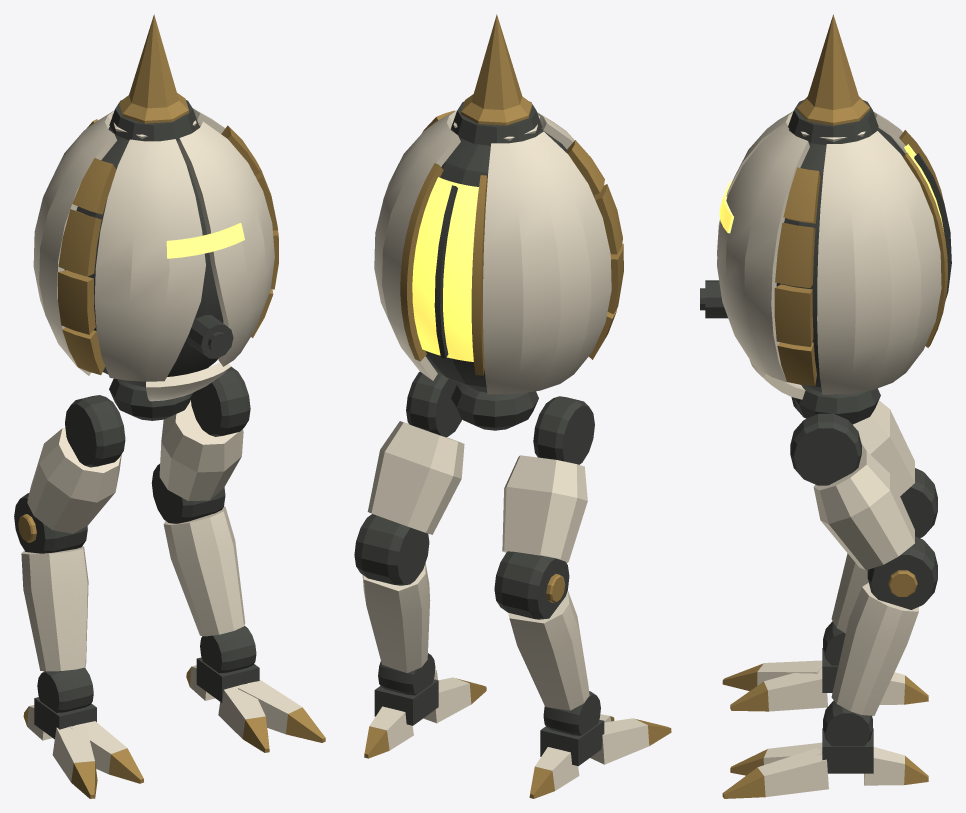
File: banki_sentry.glb
3 views of the same model, side by side, from view 1: azimuth 30°, elevation 25°; view 2: azimuth 150°, elevation 25°; view 3: azimuth 270°, elevation 25° (orthographic).
Visible parts, largest first — view 1: body, body_brass, shin_l, shin_r, body_dark, thigh_r, thigh_l, spike, thigh_r_dark, foot_l, foot_r, foot_l_ivory (+9 smaller); view 2: body, core, body_brass, thigh_l, thigh_r, body_dark, shin_r, shin_l, shin_l_dark, spike, shin_r_dark, thigh_r_dark (+8 smaller); view 3: body, body_brass, thigh_l, shin_l, body_dark, foot_l_ivory, thigh_l_dark, spike, foot_r_ivory, foot_l, thigh_r, shin_l_dark (+8 smaller).
Boxes of the visible parts, box(x1,y1,x2,y2) form: body: box(33, 108, 274, 381); body_brass: box(58, 119, 278, 374); shin_l: box(163, 506, 245, 636); shin_r: box(21, 546, 88, 671); body_dark: box(64, 125, 233, 420); thigh_r: box(27, 428, 121, 533); thigh_l: box(159, 400, 243, 500); spike: box(119, 14, 188, 123); thigh_r_dark: box(65, 395, 125, 467); foot_l: box(196, 626, 259, 702); foot_r: box(34, 667, 96, 739); foot_l_ivory: box(189, 665, 302, 738); body: box(374, 110, 611, 394); core: box(412, 177, 478, 361); body_brass: box(400, 110, 623, 375); thigh_l: box(367, 421, 464, 534); thigh_r: box(502, 455, 587, 562); body_dark: box(425, 127, 594, 430); shin_r: box(508, 590, 589, 710); shin_l: box(362, 563, 430, 672); shin_l_dark: box(354, 514, 429, 585); spike: box(461, 14, 532, 125); shin_r_dark: box(494, 551, 569, 619); thigh_r_dark: box(533, 396, 594, 464); body: box(717, 111, 941, 394); body_brass: box(774, 130, 947, 386); thigh_l: box(813, 451, 914, 570); shin_l: box(831, 582, 918, 715); body_dark: box(700, 127, 951, 424); foot_l_ivory: box(757, 742, 904, 796); thigh_l_dark: box(790, 413, 861, 485); spike: box(796, 14, 869, 125); foot_r_ivory: box(757, 660, 904, 711); foot_l: box(822, 700, 873, 773); thigh_r: box(853, 400, 914, 495); shin_l_dark: box(867, 536, 937, 609).
Size of the model in its own units: 0.3771 by 1.09 by 0.3438.
